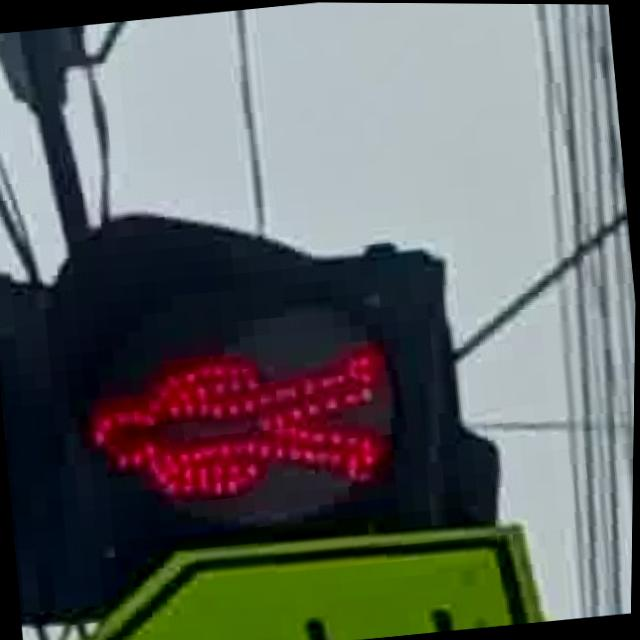red_light: (53, 301, 406, 524)
